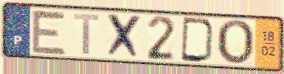2: (146, 15, 177, 62)
D: (179, 15, 217, 65)
E: (30, 8, 69, 57)
O: (215, 18, 257, 67)
T: (72, 12, 101, 57)
X: (104, 12, 143, 61)
